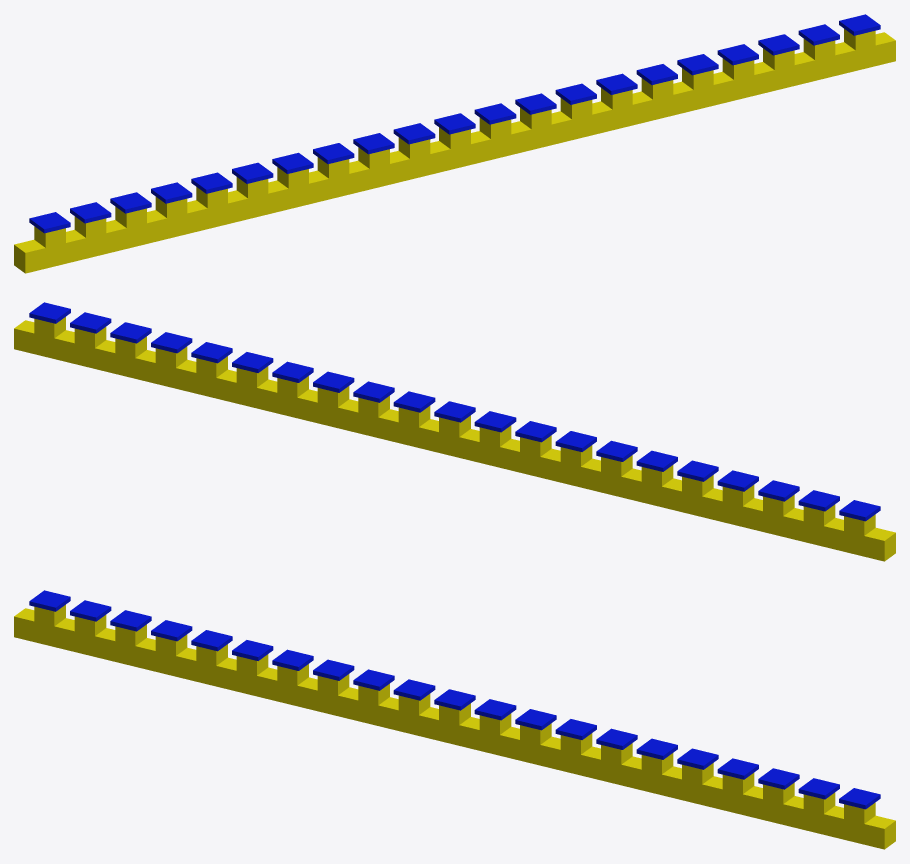
Rendered from F_REMBARDE.fbx.
3 views of the same model, one above another, from view 1: azimuth 30°, elevation 25°; view 2: azimuth 150°, elevation 25°; view 3: azimuth 330°, elevation 25° (orthographic).
Visible parts, largest first — view 1: F_RAMBARDE; view 2: F_RAMBARDE; view 3: F_RAMBARDE.
Boxes of the visible parts, left/top/right/bottom form: F_RAMBARDE: left=14, top=14, right=895, bottom=273; F_RAMBARDE: left=14, top=302, right=895, bottom=561; F_RAMBARDE: left=14, top=590, right=895, bottom=849.
Size of the model in its own units: 4400 by 200 by 131.
